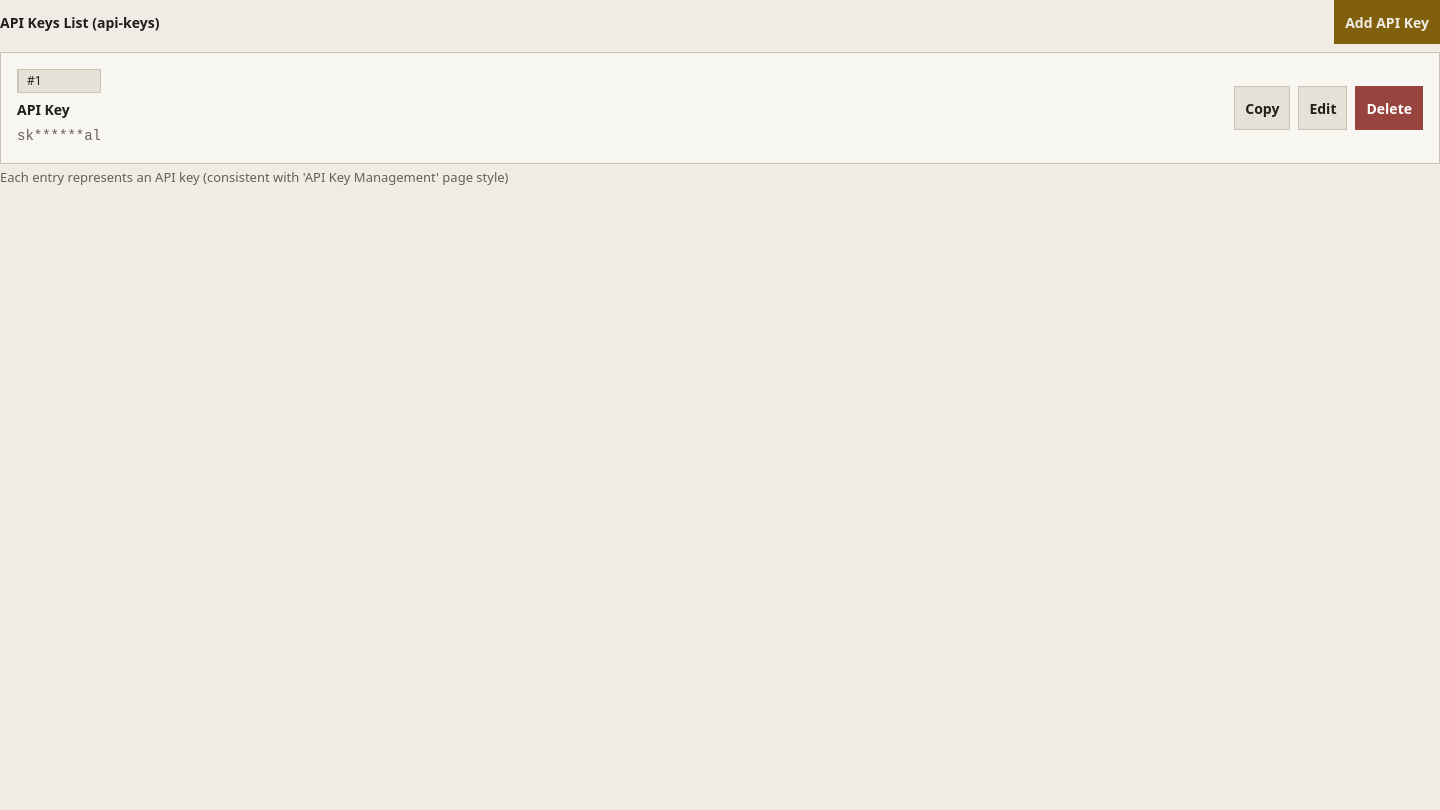
Scenario: ApiKeysCardEditor › prefills the input with the existing key when editing
Click the button "Edit" at [1323, 108], box [1298,86,1348,130]
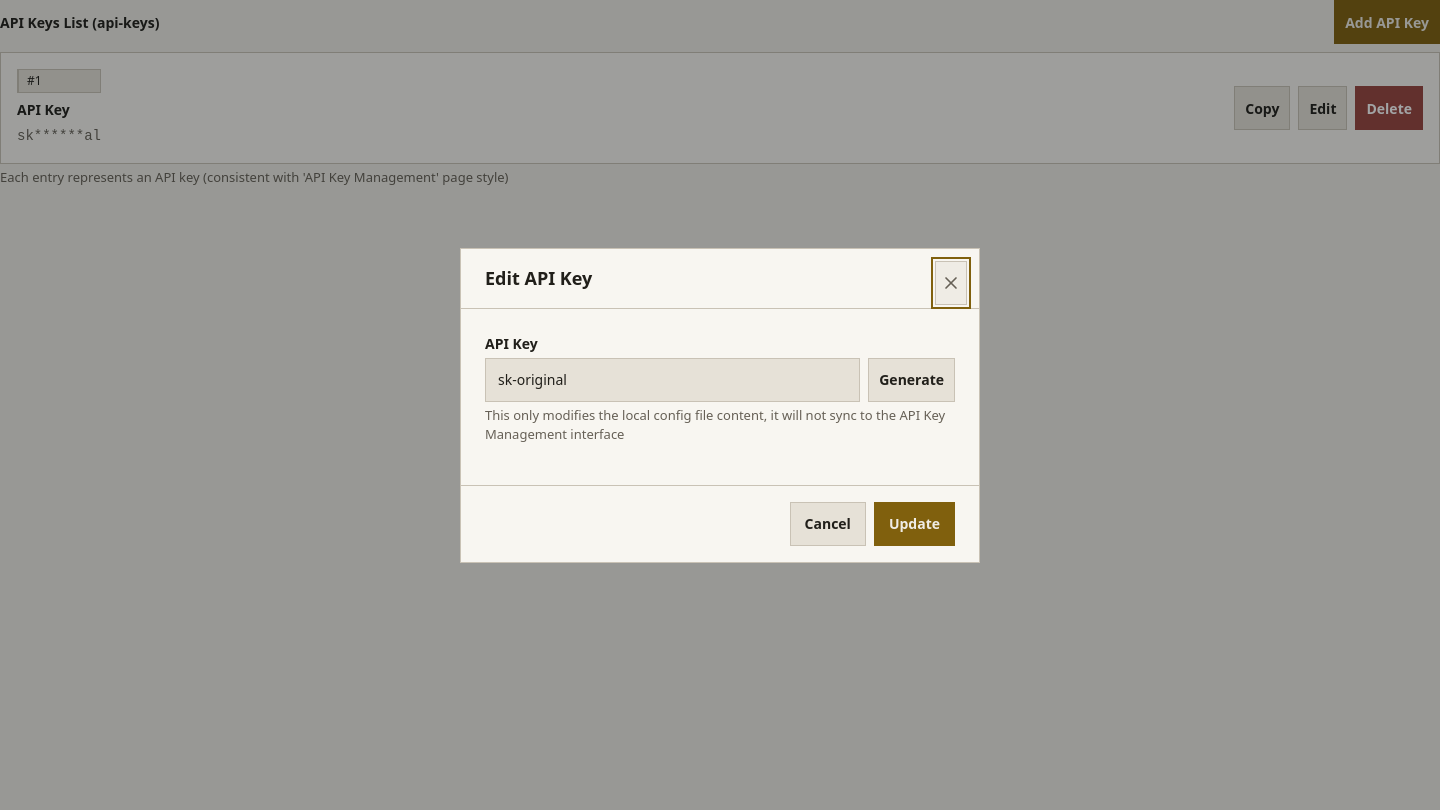
Now the field labelled "API Key" holds "sk-original", box [485,358,860,402]
